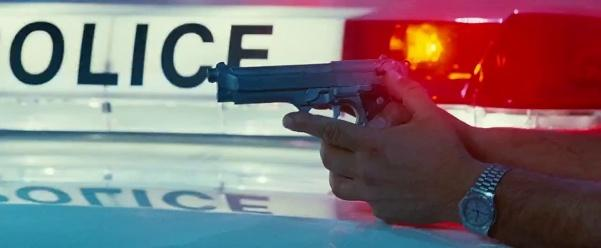Gun: (214, 55, 414, 128)
